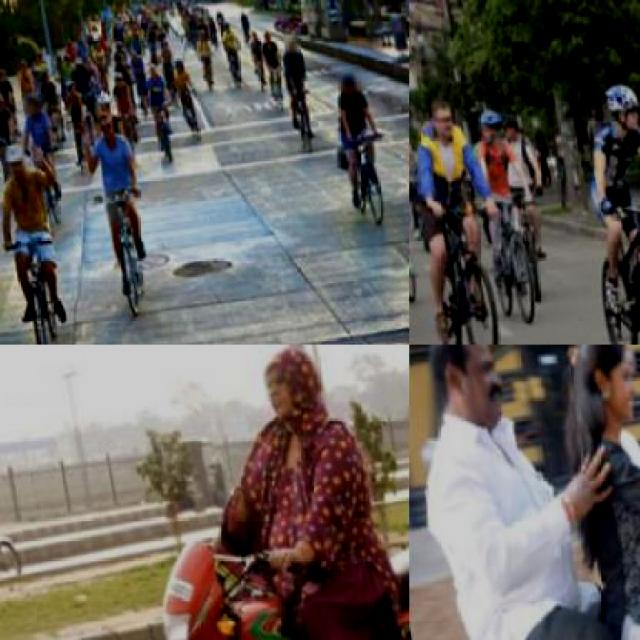With Helmet: (602, 63, 638, 131), (0, 137, 35, 180), (337, 54, 368, 95), (473, 96, 505, 132), (22, 86, 44, 115)
Without Helmet: (417, 344, 514, 422), (563, 345, 639, 412), (257, 344, 328, 404), (424, 88, 462, 140), (93, 100, 124, 142), (283, 26, 305, 56)
